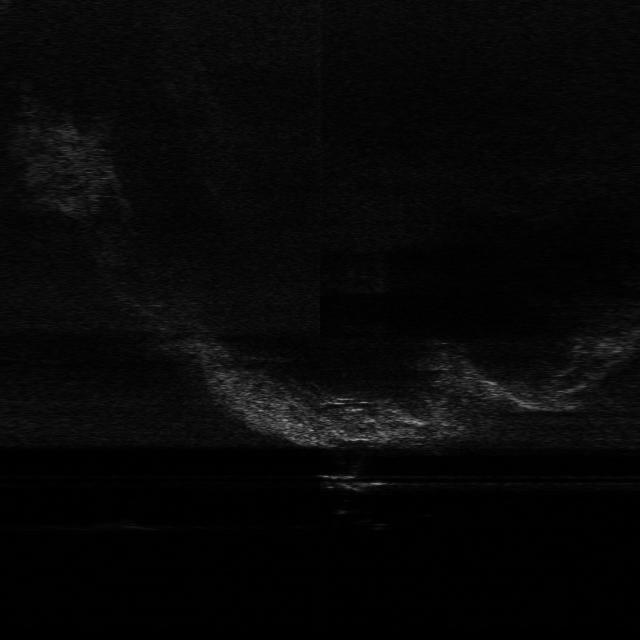plane: (312, 472, 389, 494)
